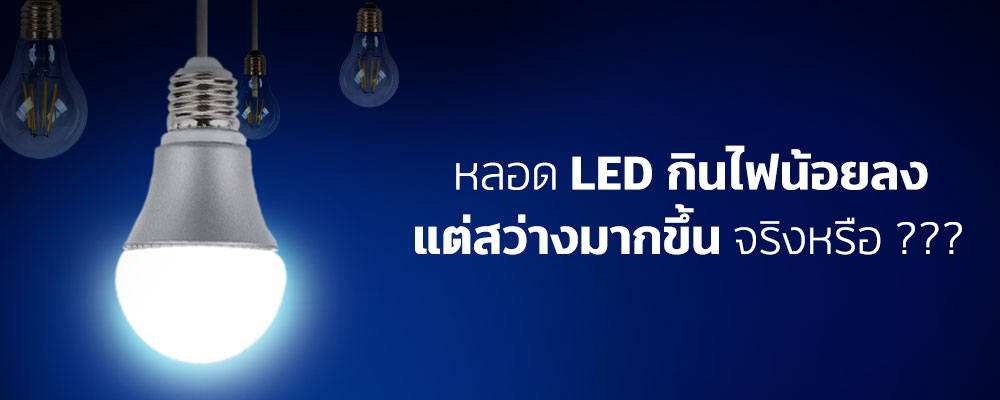Light_bulb: (108, 52, 292, 371)
